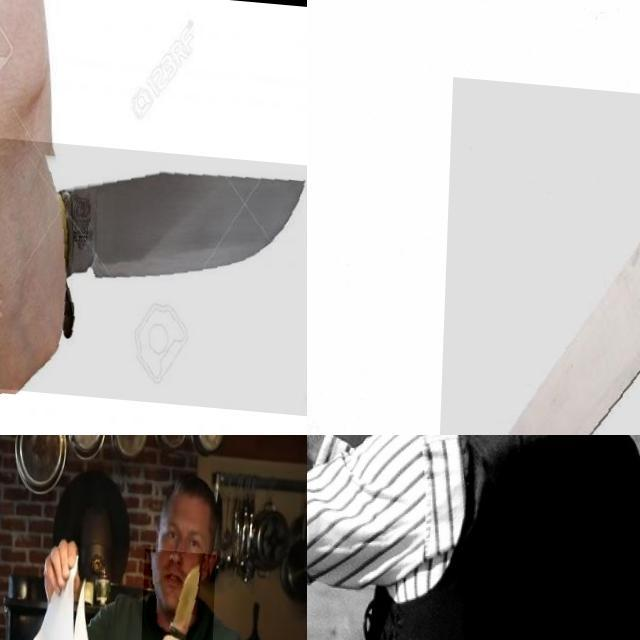-: (0, 132, 307, 407), (441, 73, 640, 435), (142, 540, 217, 640)
gun-knife-thesis - v11 Yolov5 augmented: (307, 435, 394, 493)
